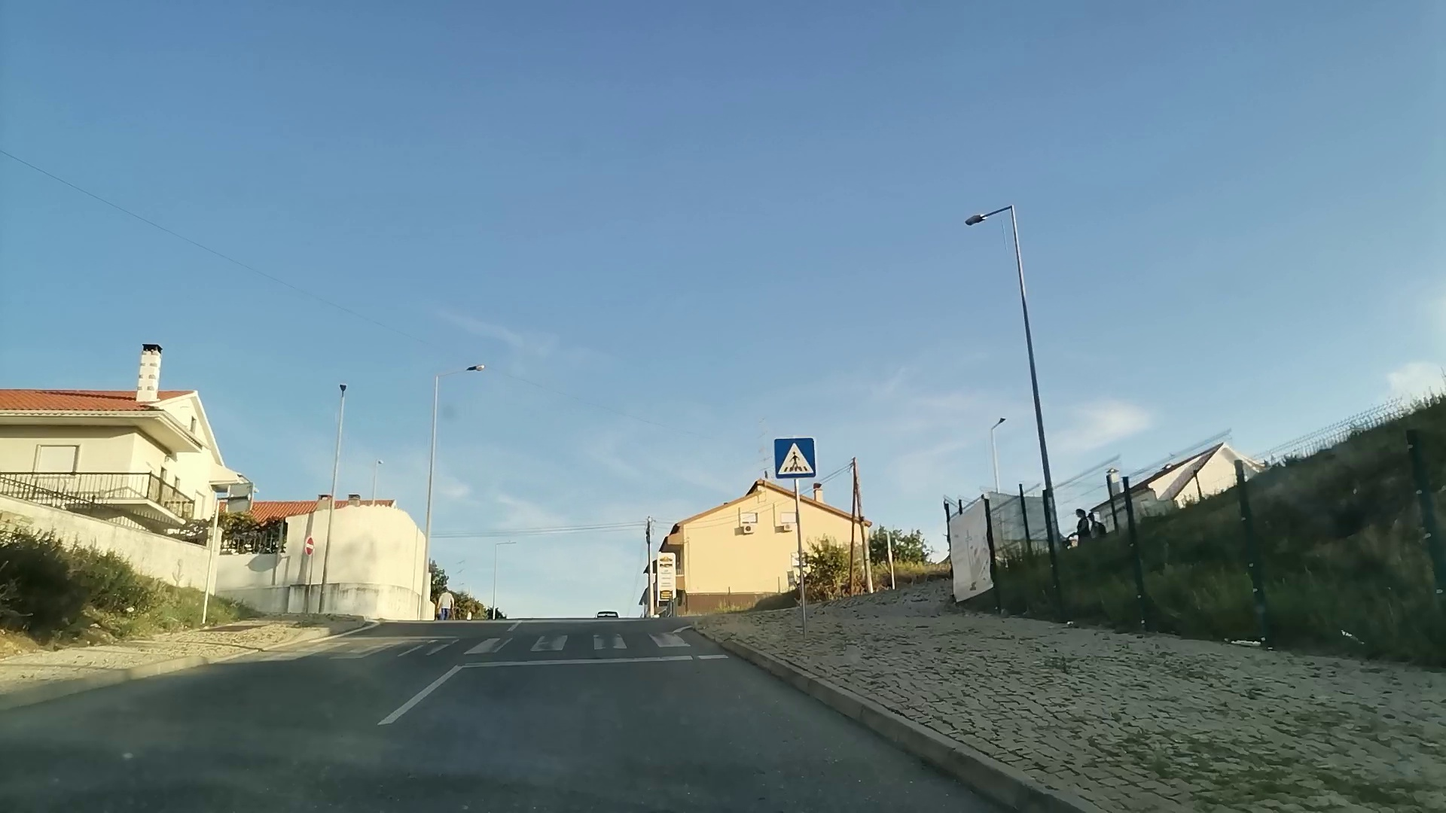Stairs: (254, 629, 693, 656)
